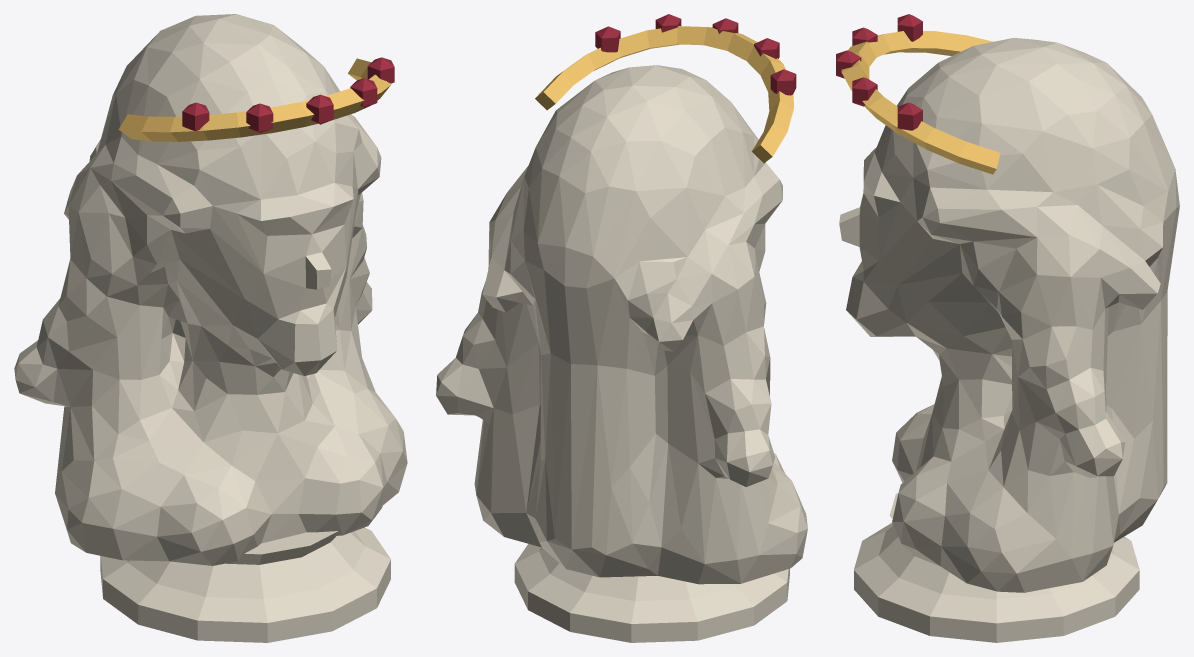
The model's file is busto_reina.glb.
The picture shows the model from 3 angles, left to right: view 1: azimuth 30°, elevation 25°; view 2: azimuth 150°, elevation 25°; view 3: azimuth 270°, elevation 25°; orthographic projection. The views are drawn at different scales.
Visible parts, largest first — view 1: busto_reina; view 2: busto_reina; view 3: busto_reina.
Part boxes in pixels (x1,y1,x2,y2): busto_reina: (14,14,407,642); busto_reina: (436,14,807,642); busto_reina: (836,14,1179,642).
Bounding box in the file's own units: 0.223 × 0.3275 × 0.191.
